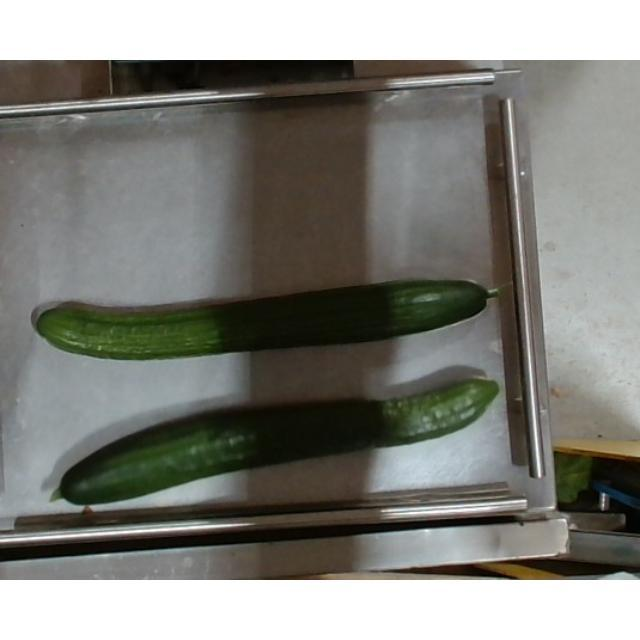cucumber: (47, 381, 500, 507), (34, 280, 500, 360)
